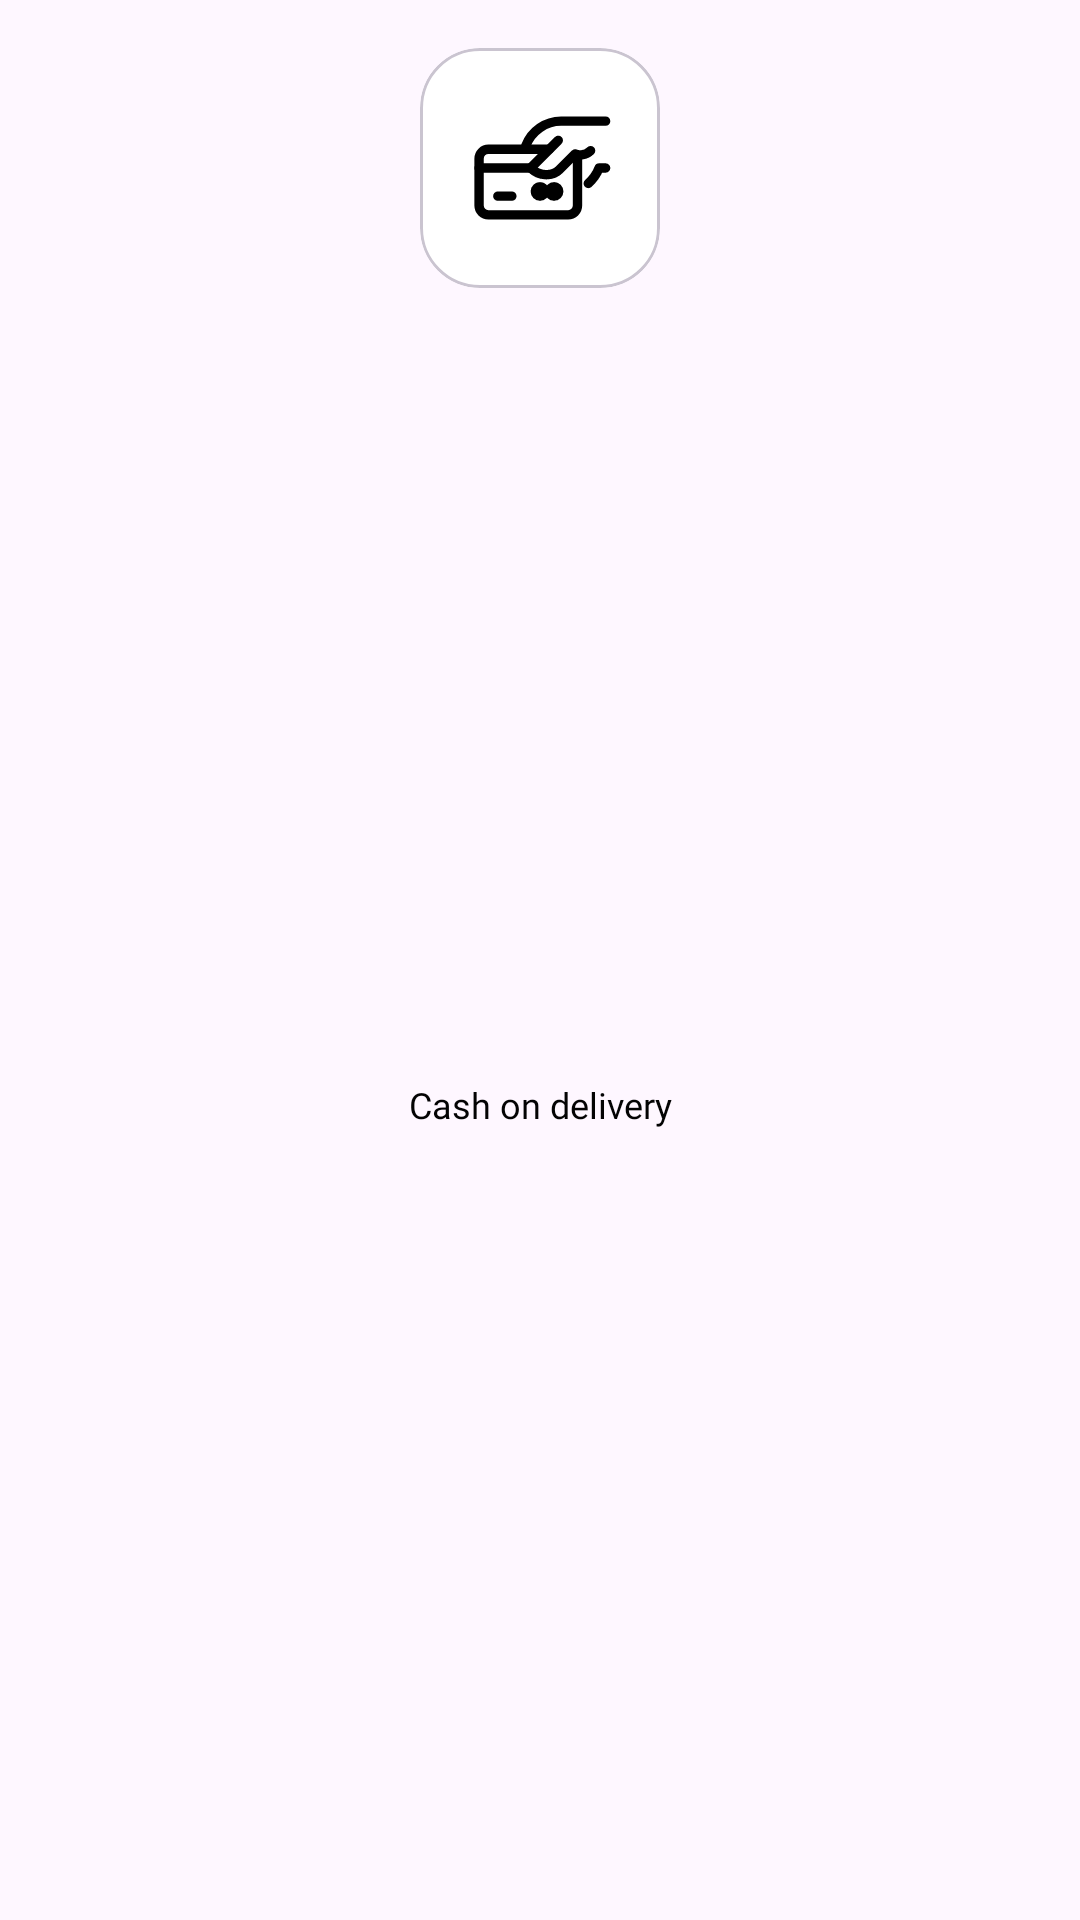

Where to tap for icons on this 1080 x 1920 app screen, as (x=x, y=y):
ecom cod: (x=542, y=168)
